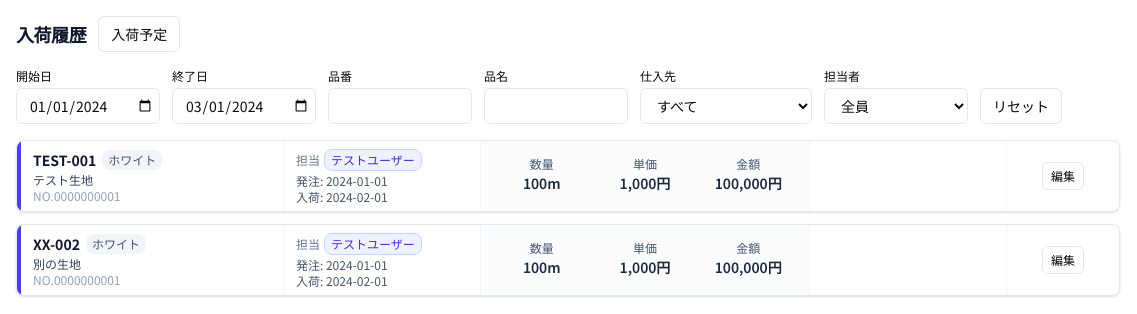
it: FabricPurchaseConfirmTable 品番・品名・仕入先の絞り込み › 品番で絞り込める
The width and height of the screenshot is (1137, 314).
Type "TEST" into the field labelled "品番" at (400, 106), box [328,88,472,124]
Wait 300 ms
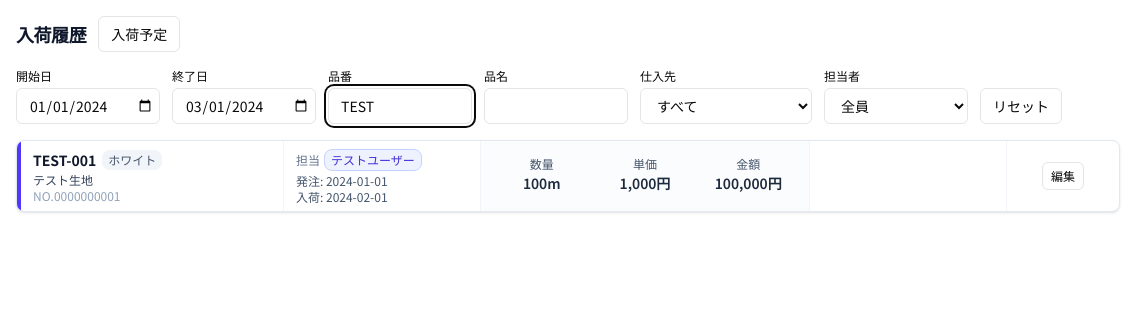
Expected: the text "TEST-001" is shown, [33,153,96,167]
Now the text "XX-002" is gone
